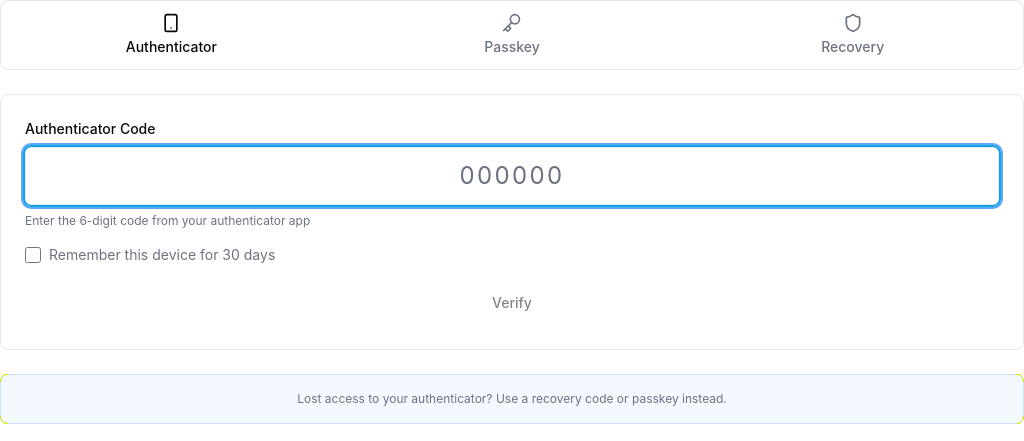
Test: TwoFactorVerification › Method Switching › should switch to Recovery method when clicked
The image size is (1024, 441).
Step 1. Click the button "Recovery" → [853, 35], box [686,5,1019,65]
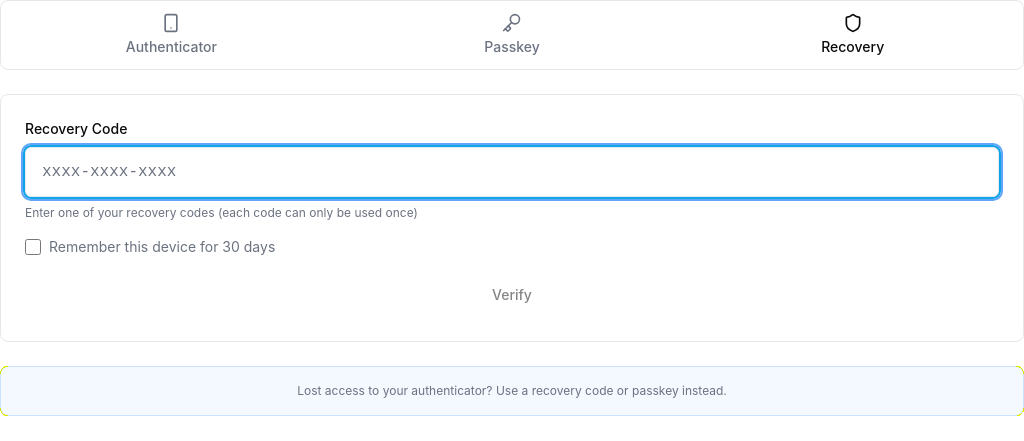
Check: the field with placeholder "xxxx-xxxx-xxxx" is shown, box [25,147,999,197]
